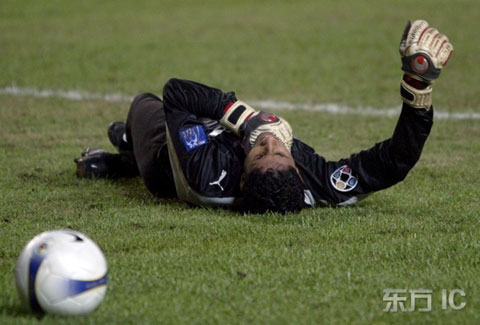fall: (67, 11, 459, 214)
